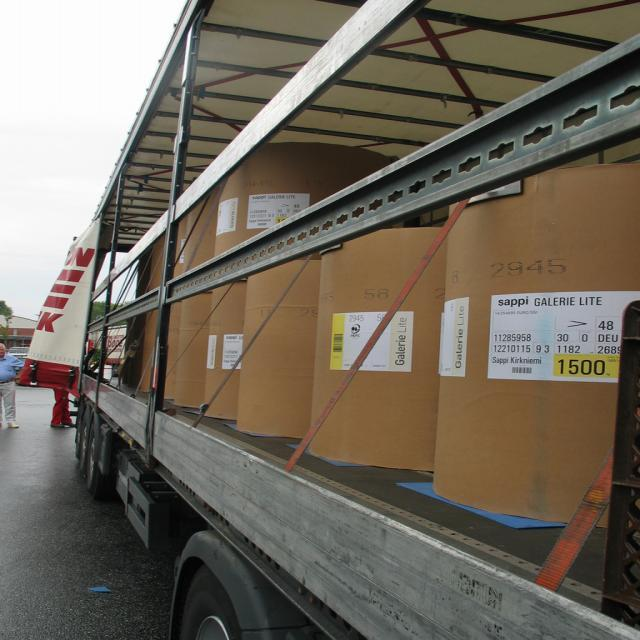bicycle: (5, 41, 640, 638)
